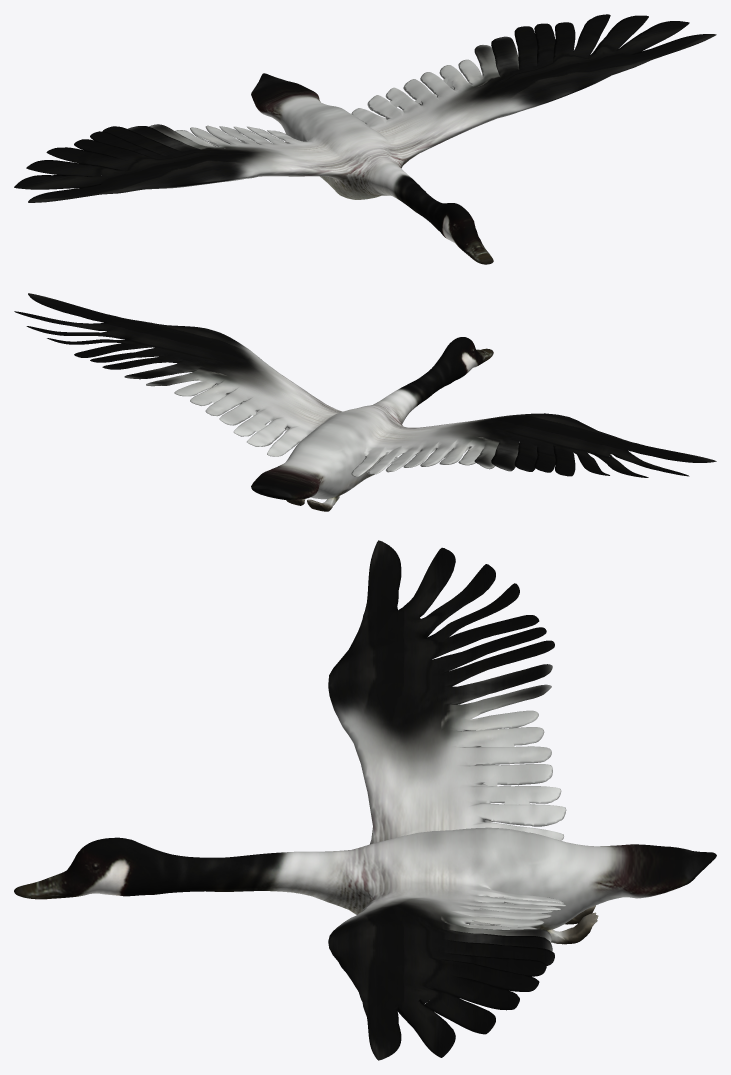
File: barnacle geese.gltf
3 views of the same model, one above another, from view 1: azimuth 30°, elevation 25°; view 2: azimuth 150°, elevation 25°; view 3: azimuth 270°, elevation 25° (orthographic). The views are drawn at different scales.
Parts seen in each view (by area): view 1: goosecan; view 2: goosecan; view 3: goosecan.
Part boxes in pixels (bbox=[...]): goosecan: bbox=[14, 14, 716, 264]; goosecan: bbox=[14, 293, 716, 511]; goosecan: bbox=[14, 540, 716, 1060].
Bounding box in the file's own units: 3.01 × 0.3753 × 1.72.
1 material, 1 textured.
